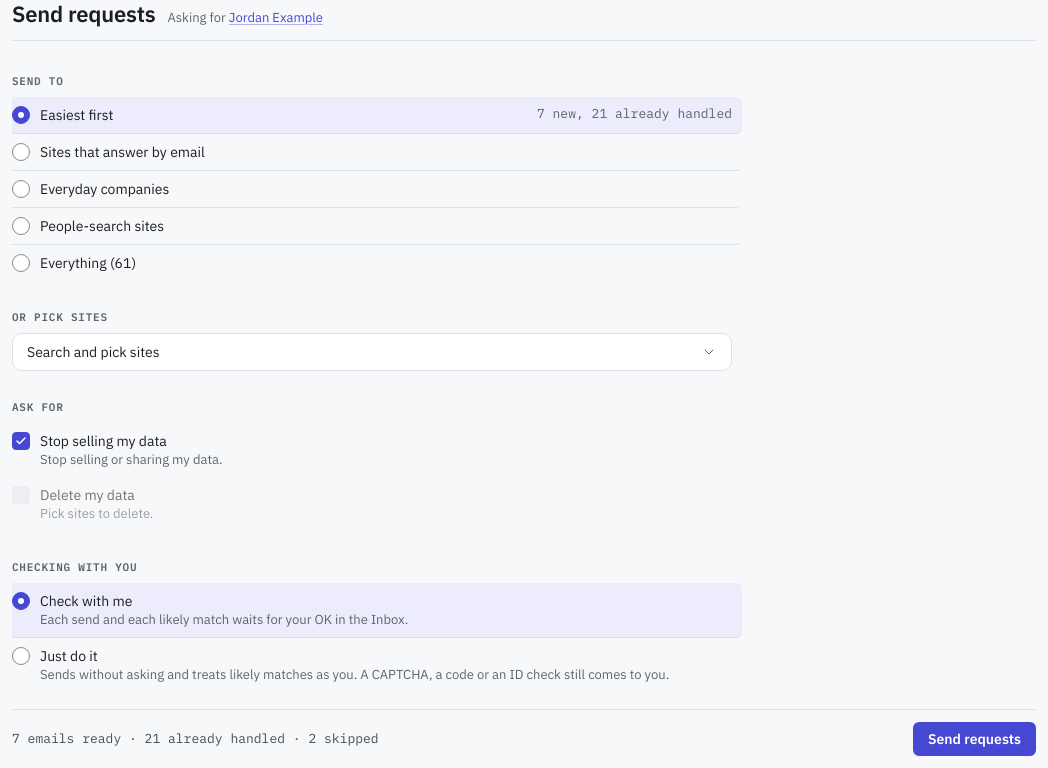
Scenario: the campaign builder › warns before sending that form-only requests will wait for a person
The width and height of the screenshot is (1048, 768).
What coordinates should you click on to do the following:
click the radio button labelled "Everything (61)"
I would click on:
 (21, 263)
Its box is x1=12 y1=254 x2=30 y2=272.
(page scrolled)
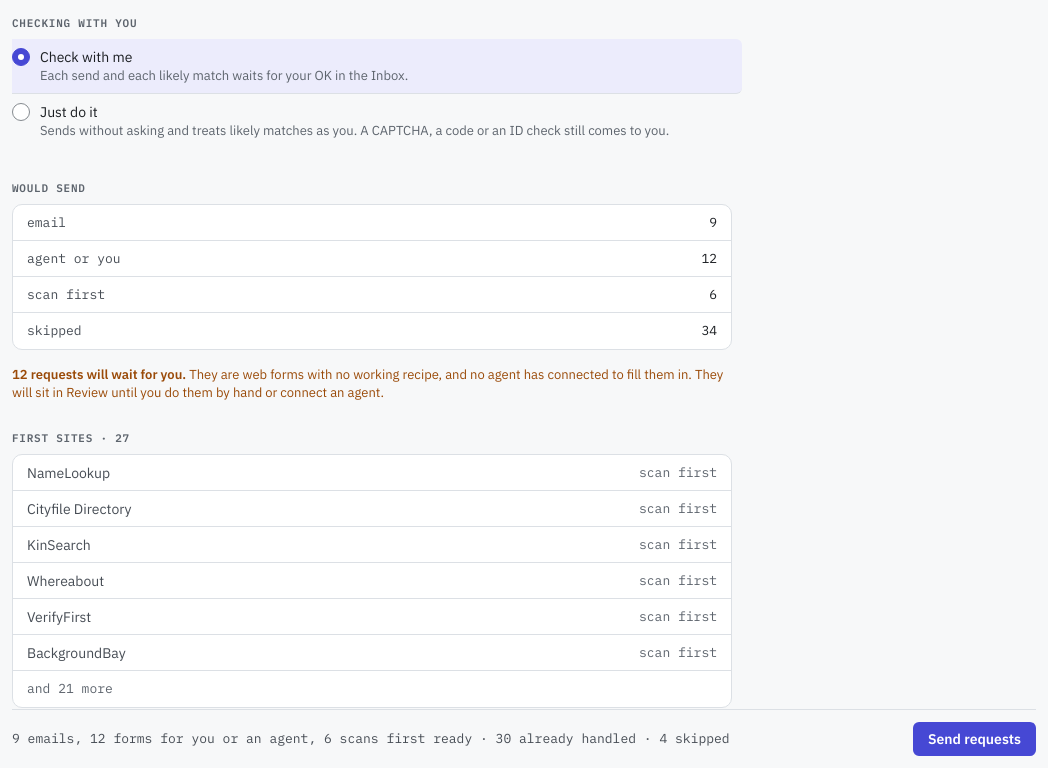
Check: the message shows "no working recipe", box x1=304 y1=366 x2=644 y2=383
Check: the message shows "no agent has connected", box x1=304 y1=366 x2=644 y2=383
